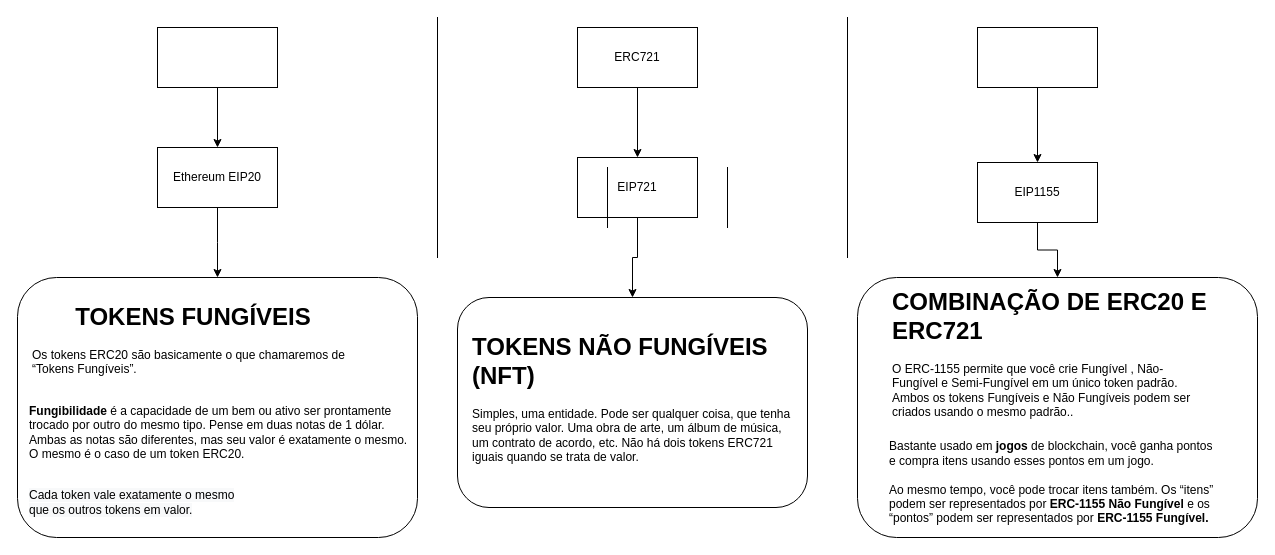
This 1275x555 diagram has some shape labels left out. Here are the shapes that lost their labels. From the top down, the centre of each, then its label:
the point at 217,57: ERC20
the point at 1037,57: ERC1155
